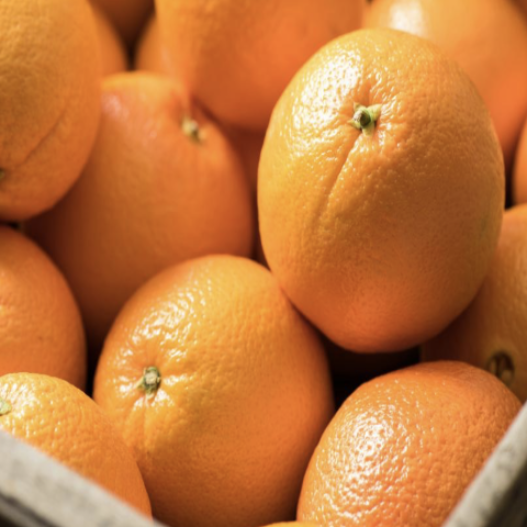orange: (243, 0, 513, 366), (76, 223, 346, 526)
